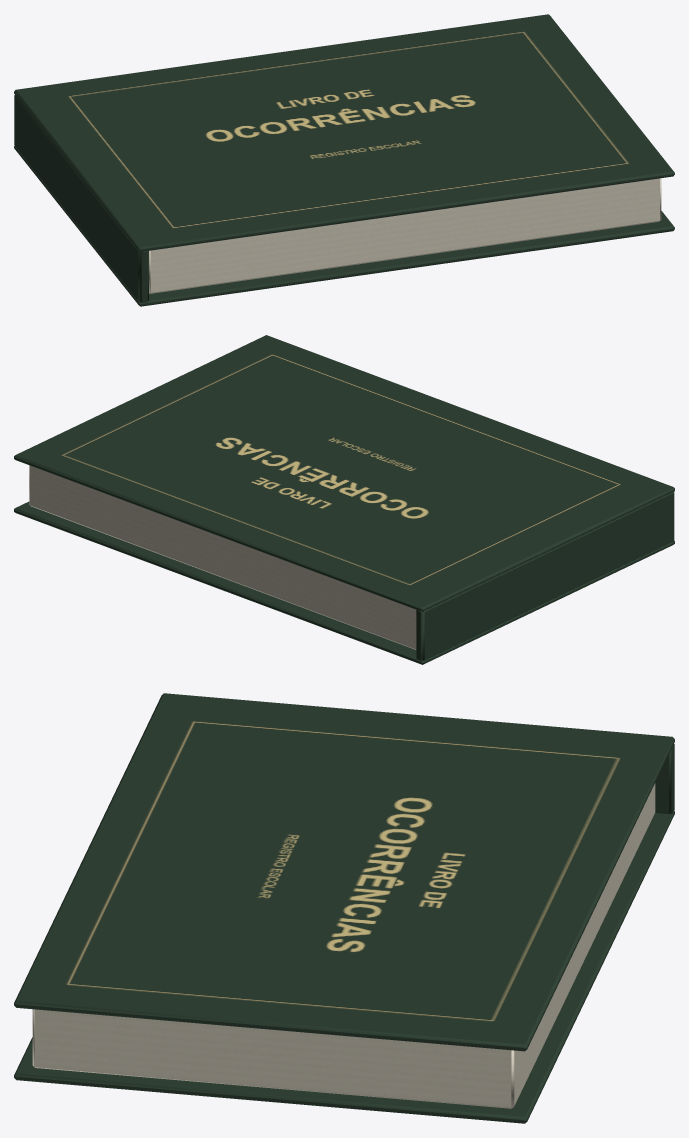
The model's file is livro_ocorrencias_realista.glb.
The picture shows the model from 3 angles, top to bottom: view 1: azimuth 30°, elevation 25°; view 2: azimuth 150°, elevation 25°; view 3: azimuth 270°, elevation 25°; orthographic projection. The views are drawn at different scales.
Parts seen in each view (by area): view 1: Livro_Ocorrencias; view 2: Livro_Ocorrencias; view 3: Livro_Ocorrencias.
Part boxes in pixels (x1,y1,x2,y2): Livro_Ocorrencias: (14, 14, 674, 306); Livro_Ocorrencias: (14, 335, 674, 664); Livro_Ocorrencias: (14, 693, 674, 1123).
Size of the model in its own units: 0.3353 by 0.035 by 0.265.
Materials: 1 (1 with a texture image).
